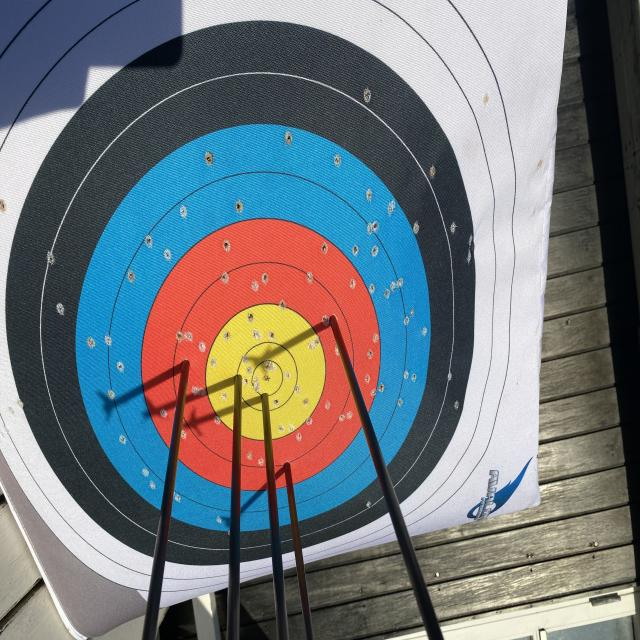Arrow_Red: (322, 289, 349, 360), (174, 338, 202, 381), (278, 447, 297, 498)
Arrow_Yellow: (253, 369, 276, 426), (228, 359, 252, 407)
